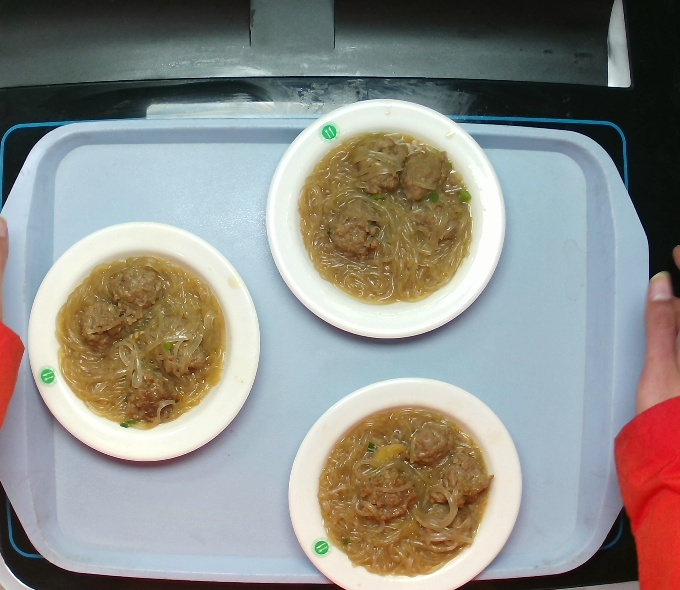wcq-FenSiNiuRouWan: (292, 118, 489, 315), (318, 396, 499, 587), (51, 245, 235, 429)
